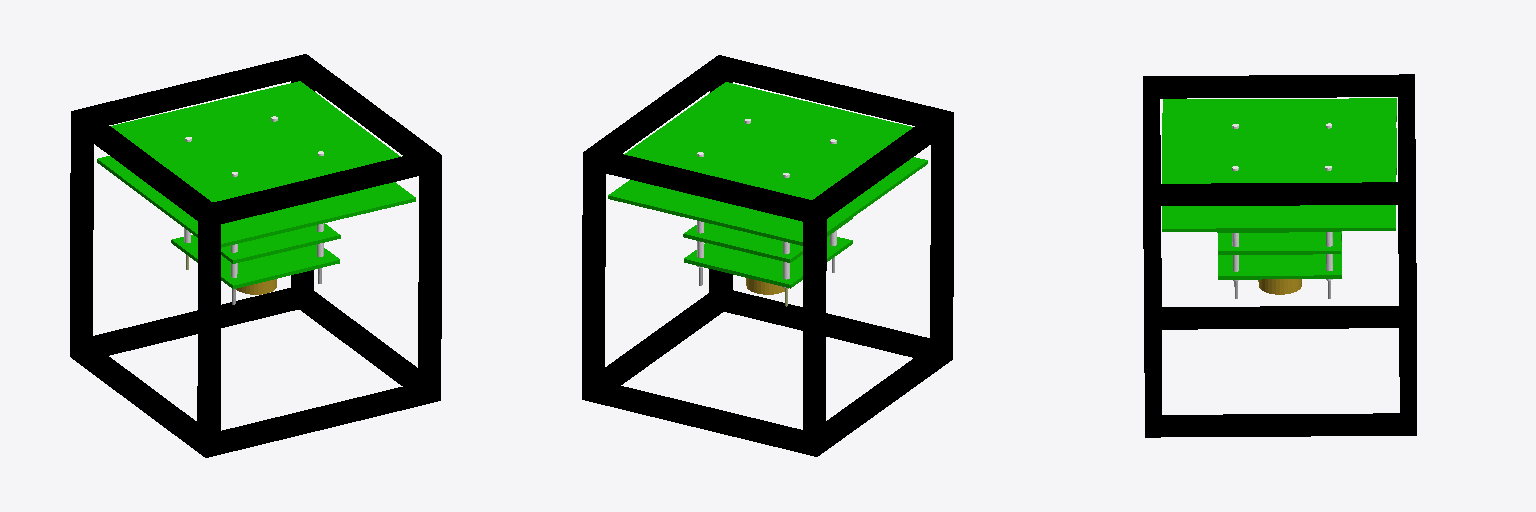
Rendered from EyasSatMockup-rot.obj.
3 views of the same model, side by side, from view 1: azimuth 30°, elevation 25°; view 2: azimuth 150°, elevation 25°; view 3: azimuth 270°, elevation 25° (orthographic).
Parts seen in each view (by area): view 1: Cube_Cube.001, Cube.006_Cube.007, Cube.001_Cube.002, Cube.004_Cube.005, Cube.003_Cube.004; view 2: Cube_Cube.001, Cube.006_Cube.007, Cube.001_Cube.002, Cube.004_Cube.005, Cube.003_Cube.004; view 3: Cube_Cube.001, Cube.006_Cube.007, Cube.001_Cube.002, Cube.004_Cube.005, Cube.003_Cube.004, Cylinder.004.
Boxes of the visible parts, box(x1,y1,x2,y2) form: Cube_Cube.001: box(70, 54, 441, 457); Cube.006_Cube.007: box(111, 81, 400, 201); Cube.001_Cube.002: box(97, 156, 415, 247); Cube.004_Cube.005: box(171, 235, 339, 288); Cube.003_Cube.004: box(221, 223, 340, 263); Cube_Cube.001: box(582, 55, 953, 456); Cube.006_Cube.007: box(624, 82, 912, 199); Cube.001_Cube.002: box(608, 157, 927, 245); Cube.004_Cube.005: box(684, 235, 852, 288); Cube.003_Cube.004: box(683, 218, 852, 262); Cube_Cube.001: box(1143, 74, 1416, 437); Cube.006_Cube.007: box(1162, 98, 1396, 183); Cube.001_Cube.002: box(1162, 128, 1396, 231); Cube.004_Cube.005: box(1218, 241, 1341, 279); Cube.003_Cube.004: box(1218, 231, 1341, 254); Cylinder.004: box(1258, 279, 1301, 294).
Size of the model in its own units: 4 by 4.03 by 4.03.